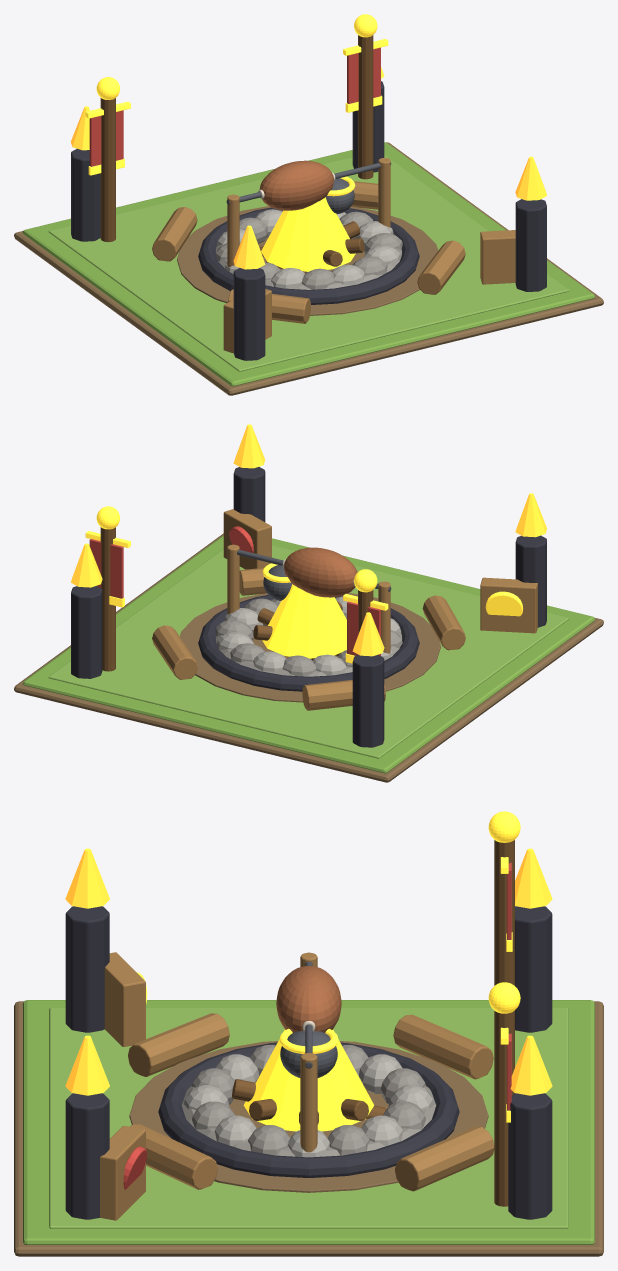
Rendered from army_camp_lv9.glb.
3 renders of one model, top to bottom at view 1: azimuth 30°, elevation 25°; view 2: azimuth 150°, elevation 25°; view 3: azimuth 270°, elevation 25°, orthographic. The views are drawn at different scales.
Parts seen in each view (by area): view 1: Base_Inner, Base_Grass, Base_Dirt, CampDirtPatch, FlameOuter, AC_OuterRing, AC_CornerPillar_-1_-1, AC_CornerPillar_1_-1, RoastMeat, AC_CornerPillar_-1_1, TotemPole_-1, TotemPole_1 (+19 smaller); view 2: Base_Inner, Base_Grass, Base_Dirt, CampDirtPatch, FlameOuter, AC_OuterRing, AC_CornerPillar_-1_1, AC_CornerPillar_1_1, RoastMeat, CampRackFrame_-1, AC_CornerPillar_-1_-1, TotemPole_1 (+21 smaller); view 3: Base_Inner, Base_Grass, Base_Dirt, AC_OuterRing, CampDirtPatch, AC_CornerPillar_1_1, AC_CornerPillar_-1_-1, FlameOuter, AC_CornerPillar_1_-1, AC_CornerPillar_-1_1, LogBench_3.90, LogBench_0.80 (+32 smaller).
Part boxes in pixels (x1,y1,x2,y2): Base_Inner: (48, 155, 569, 371); Base_Grass: (23, 142, 594, 386); Base_Dirt: (14, 142, 603, 395); CampDirtPatch: (177, 206, 438, 315); FlameOuter: (261, 197, 355, 271); AC_OuterRing: (198, 207, 419, 304); AC_CornerPillar_-1_-1: (233, 268, 265, 360); AC_CornerPillar_1_-1: (515, 199, 546, 291); RoastMeat: (259, 160, 333, 210); AC_CornerPillar_-1_1: (71, 148, 100, 241); TotemPole_-1: (100, 98, 115, 242); TotemPole_1: (358, 35, 373, 179); Base_Inner: (48, 545, 569, 758); Base_Grass: (23, 535, 594, 773); Base_Dirt: (14, 533, 603, 782); CampDirtPatch: (180, 593, 440, 702); FlameOuter: (262, 584, 346, 658); AC_OuterRing: (198, 595, 419, 691); AC_CornerPillar_-1_1: (352, 655, 384, 747); AC_CornerPillar_1_1: (71, 586, 102, 678); RoastMeat: (284, 547, 357, 597); CampRackFrame_-1: (480, 577, 537, 633); AC_CornerPillar_-1_-1: (515, 535, 546, 627); TotemPole_1: (100, 527, 115, 671); Base_Inner: (49, 1008, 568, 1228); Base_Grass: (23, 1000, 594, 1244); Base_Dirt: (14, 1001, 603, 1256); AC_OuterRing: (158, 1042, 459, 1177); CampDirtPatch: (129, 1041, 488, 1192); AC_CornerPillar_1_1: (508, 1093, 552, 1219); AC_CornerPillar_-1_-1: (65, 906, 109, 1032); FlameOuter: (243, 1029, 374, 1131); AC_CornerPillar_1_-1: (65, 1093, 109, 1219); AC_CornerPillar_-1_1: (515, 906, 552, 1032); LogBench_3.90: (128, 1013, 229, 1076); LogBench_0.80: (394, 1126, 494, 1191).
Bounding box in the file's own units: 3.68 × 1.68 × 3.68.
